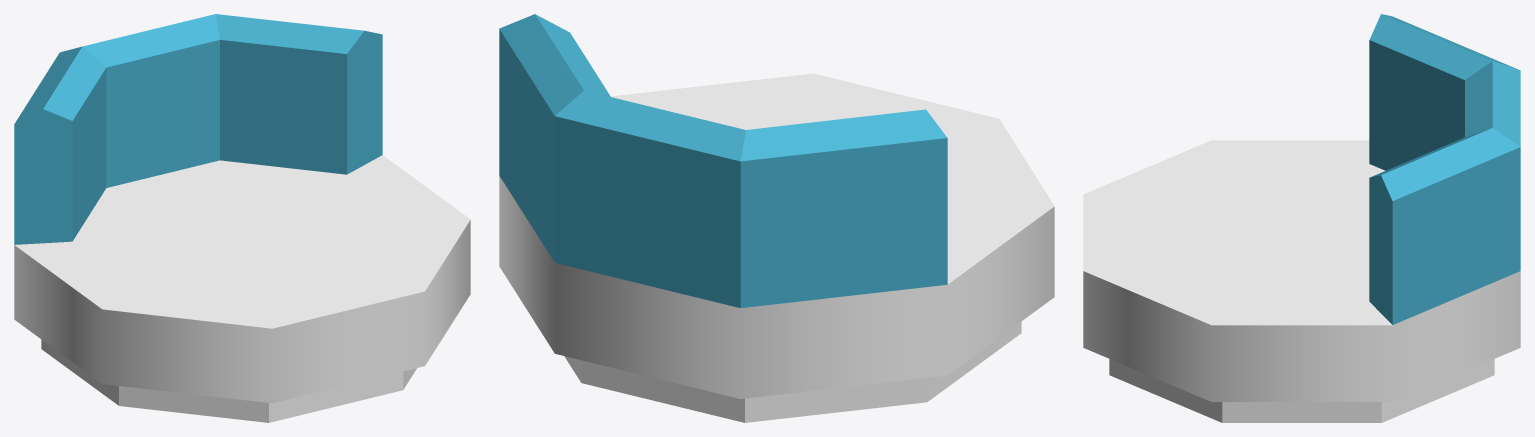
File: Itr_Barchair_Seat_05.FBX
3 views of the same model, side by side, from view 1: azimuth 30°, elevation 25°; view 2: azimuth 150°, elevation 25°; view 3: azimuth 270°, elevation 25° (orthographic). The views are drawn at different scales.
Visible parts, largest first — view 1: Itr_Barchair_Seat_05; view 2: Itr_Barchair_Seat_05; view 3: Itr_Barchair_Seat_05.
Boxes of the visible parts, x1,y1,x2,y2 form: Itr_Barchair_Seat_05: (14,14,470,422); Itr_Barchair_Seat_05: (499,14,1054,422); Itr_Barchair_Seat_05: (1083,14,1520,422).
Bounding box in the file's own units: 16.37 × 10.19 × 16.37.
